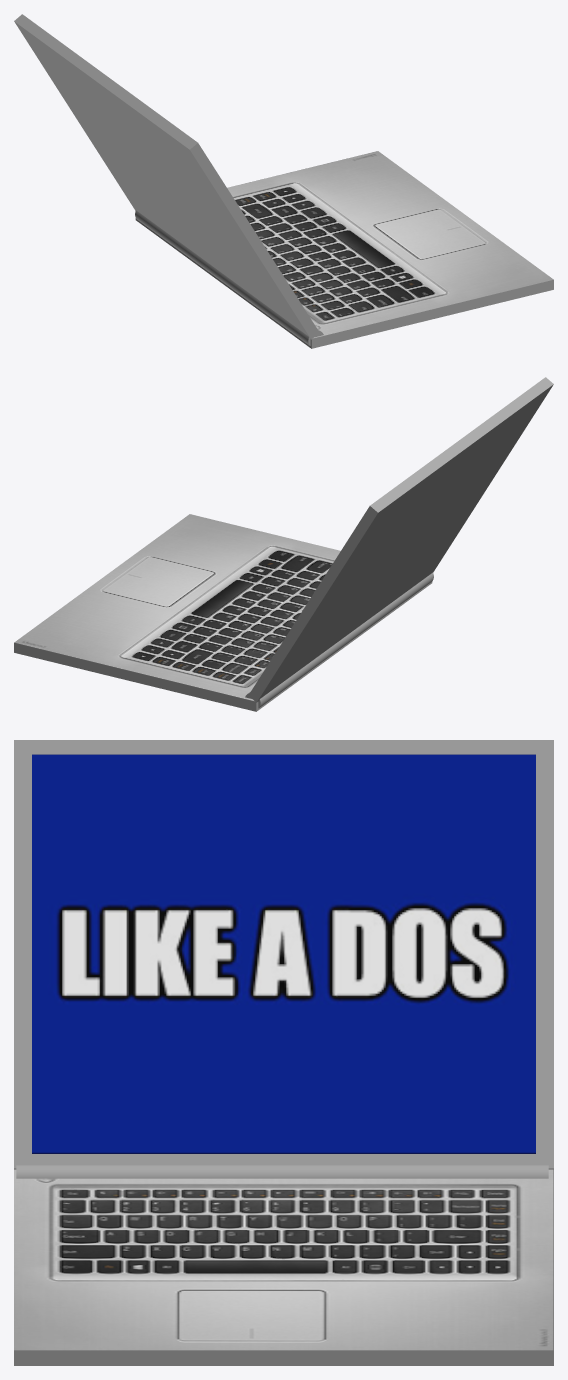
The model's file is Laptop.fbx.
3 views of the same model, one above another, from view 1: azimuth 30°, elevation 25°; view 2: azimuth 150°, elevation 25°; view 3: azimuth 270°, elevation 25° (orthographic). The views are drawn at different scales.
Parts seen in each view (by area): view 1: pCube3; view 2: pCube3; view 3: pCube3.
Boxes of the visible parts, x1=… form: pCube3: x1=14, y1=14, x2=553, y2=348; pCube3: x1=14, y1=377, x2=553, y2=711; pCube3: x1=14, y1=740, x2=553, y2=1365.
Size of the model in its own units: 7.06 by 4.34 by 5.9.
